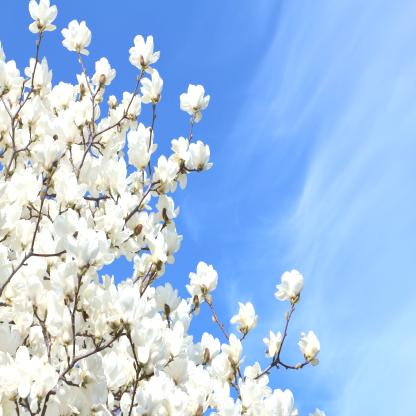Mokuren: (1, 0, 328, 416)
